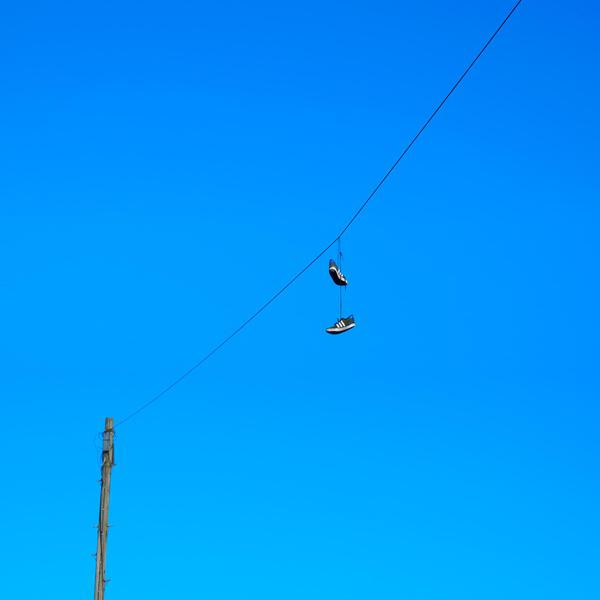utility_pole: (84, 408, 132, 495)
